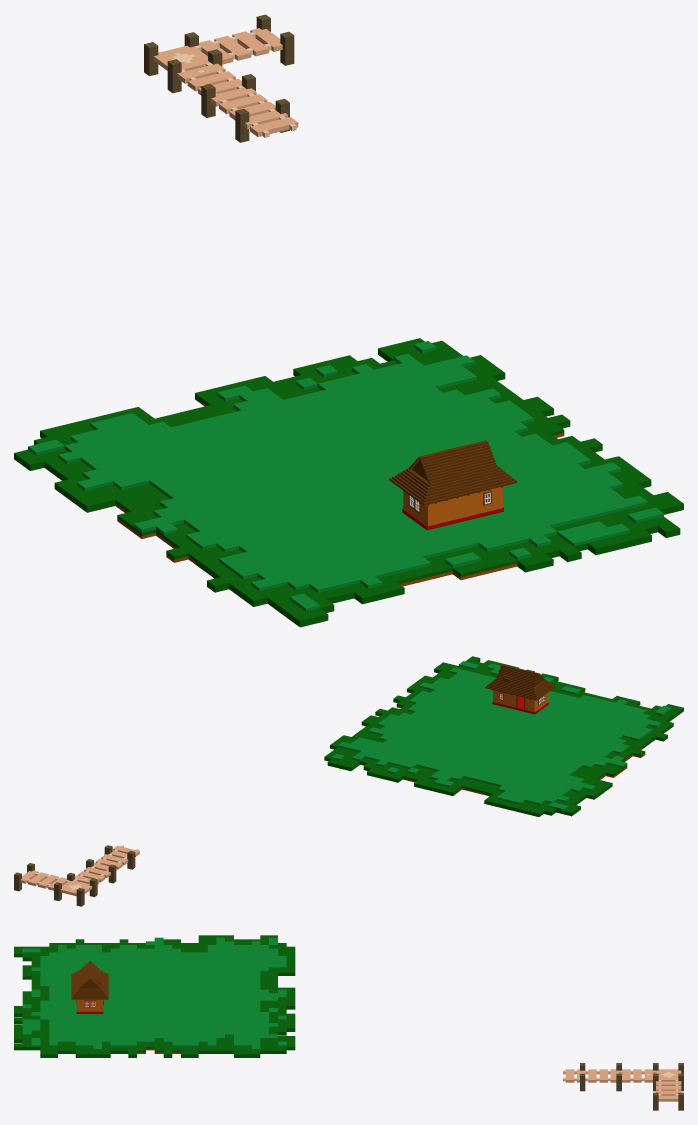
File: small_world_glb.glb
The picture shows the model from 3 angles, top to bottom: view 1: azimuth 30°, elevation 25°; view 2: azimuth 150°, elevation 25°; view 3: azimuth 270°, elevation 25°; orthographic projection. The views are drawn at different scales.
Visible parts, largest first — view 1: Grass, Pier, House; view 2: Grass, Pier, House; view 3: Grass, Pier, House.
Part boxes in pixels (x1,y1,x2,y2): Grass: [14, 338, 683, 627]; Pier: [144, 14, 298, 142]; House: [389, 440, 516, 530]; Grass: [324, 656, 683, 816]; Pier: [14, 845, 139, 906]; House: [485, 664, 555, 714]; Grass: [14, 935, 295, 1057]; Pier: [563, 1063, 683, 1110]; House: [71, 961, 108, 1013].
Bounding box in the file's own units: 20.88 × 2.65 × 35.7.
3 materials, 3 textured.
